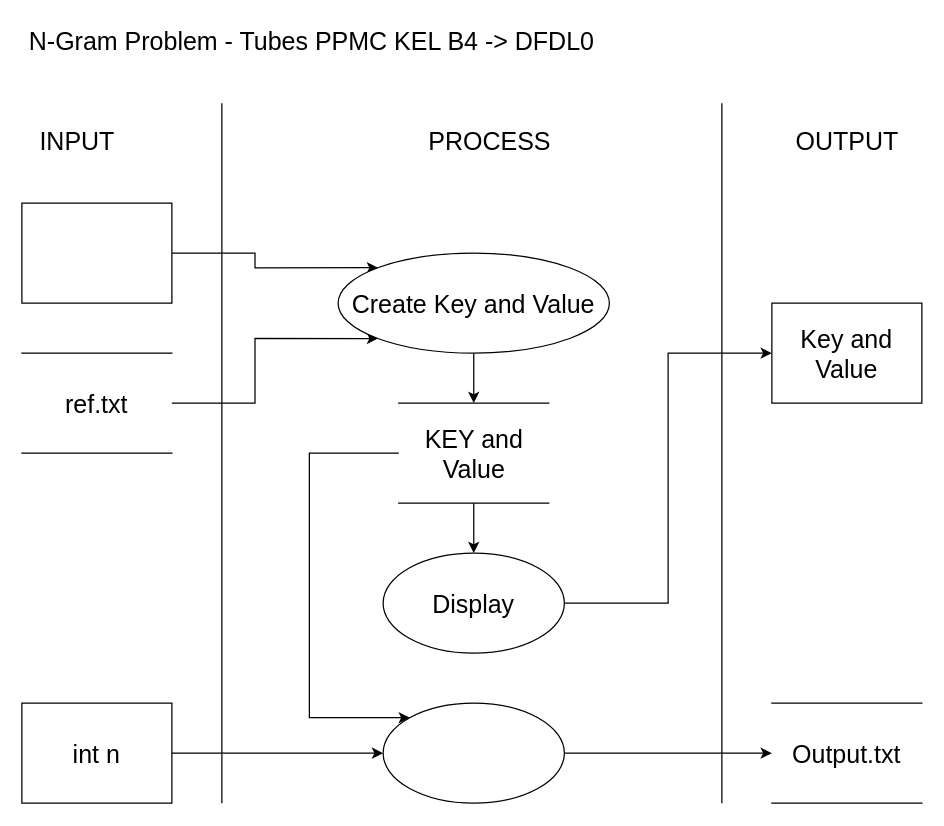
Image size: 944x826. Some labels were removed from this diagram. The shapes that lost their labels are listed below. From the top down, each one's centre as x and y in pixels, then its label:
At point (96, 252): "int N-Gram".
At point (473, 752): "Generate Text".
